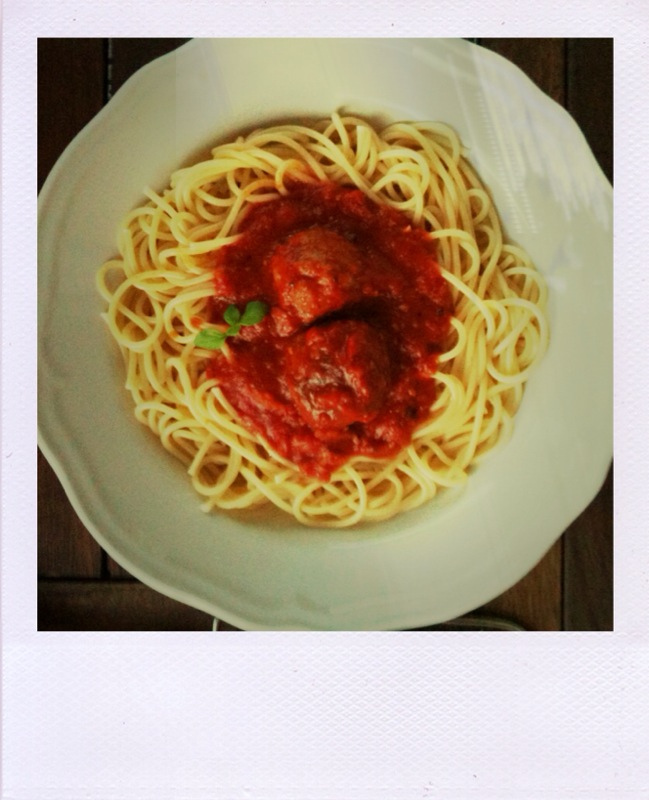plain spaghetti: (117, 119, 552, 535)
